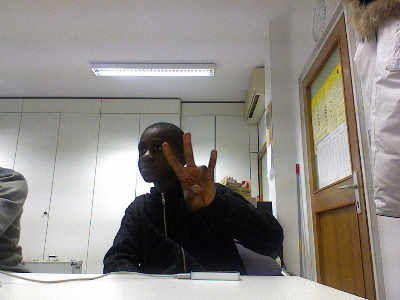观音: (160, 130, 217, 212)
